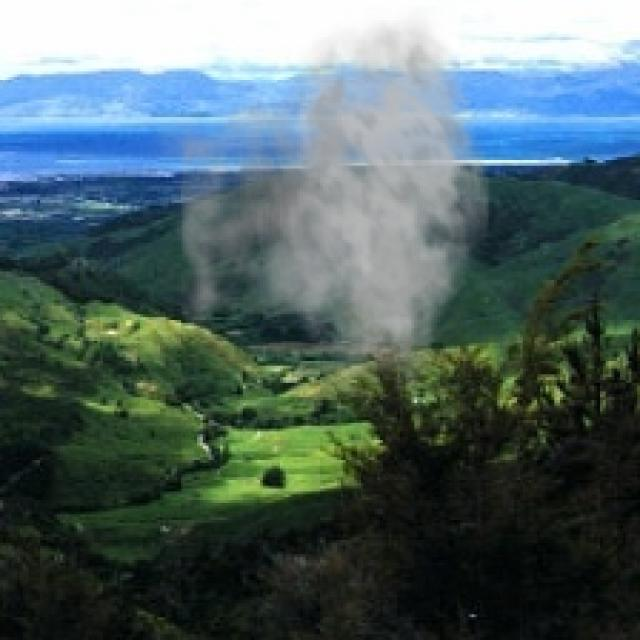Smoke: (146, 6, 492, 403)
